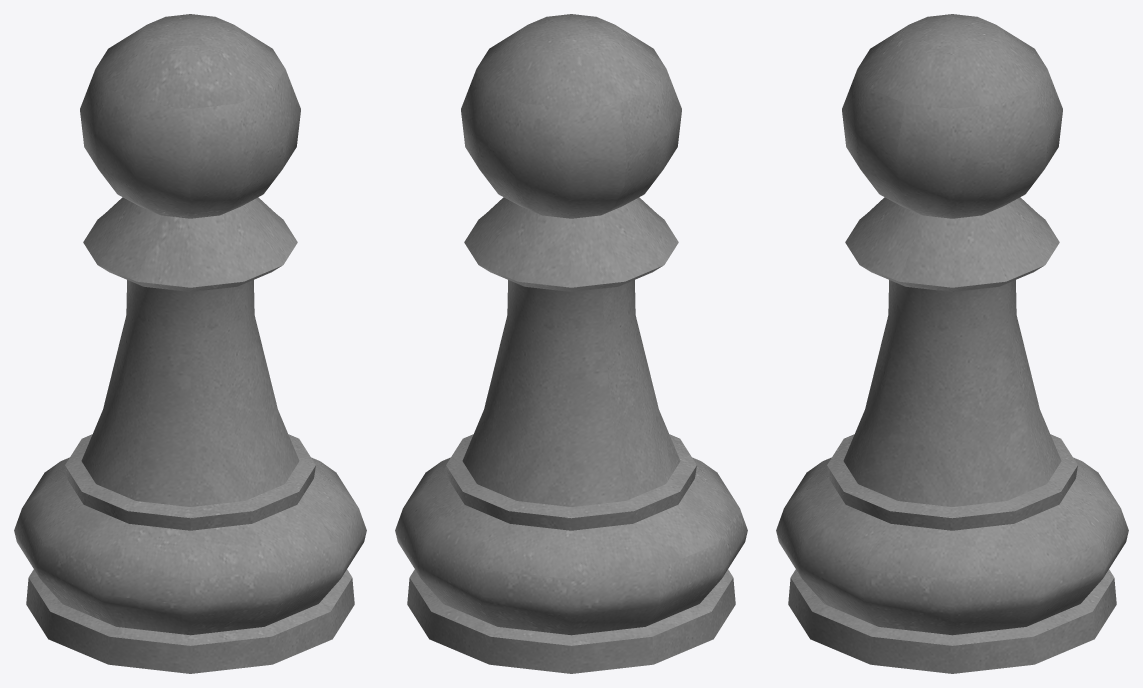
Rendered from SPawn.obj.
The picture shows the model from 3 angles, left to right: view 1: azimuth 30°, elevation 25°; view 2: azimuth 150°, elevation 25°; view 3: azimuth 270°, elevation 25°; orthographic projection.
Parts seen in each view (by area): view 1: Pawn.008; view 2: Pawn.008; view 3: Pawn.008.
Boxes of the visible parts, box(x1,y1,x2,y2) form: Pawn.008: box(14, 14, 366, 673); Pawn.008: box(395, 14, 747, 673); Pawn.008: box(776, 14, 1128, 673).
Size of the model in its own units: 0.1787 by 0.3242 by 0.1787.
1 material, 1 textured.
